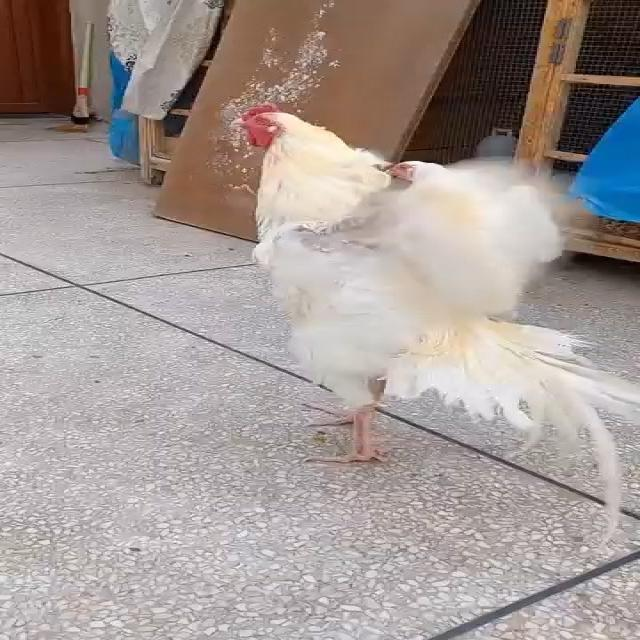wing flap: (210, 84, 640, 522)
